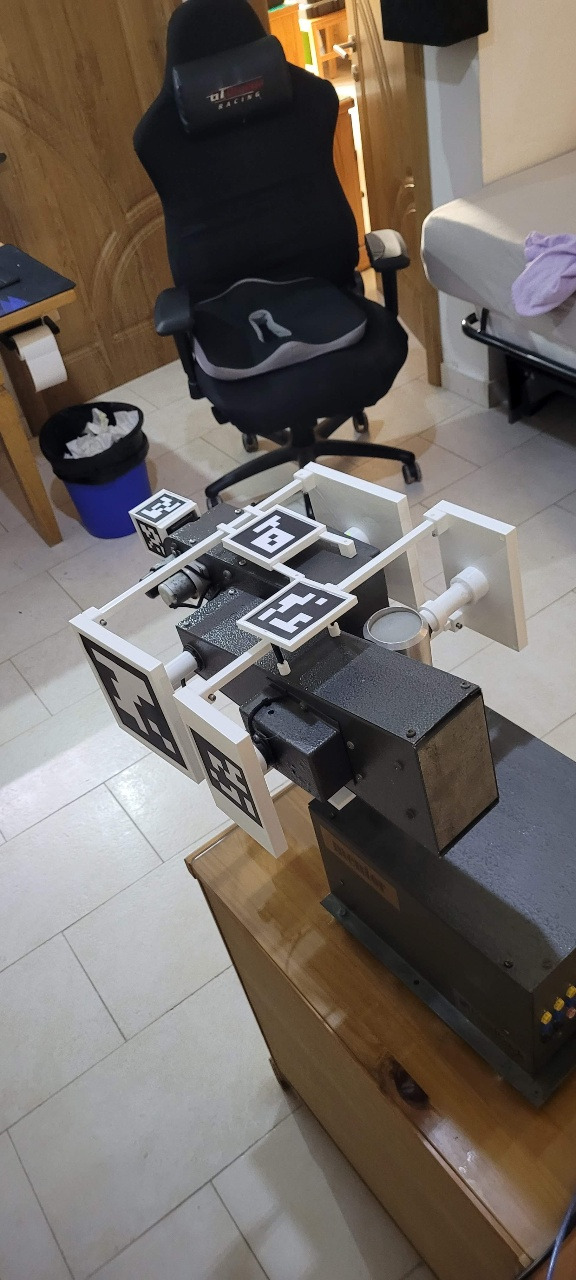Robot: (48, 205, 512, 875)
